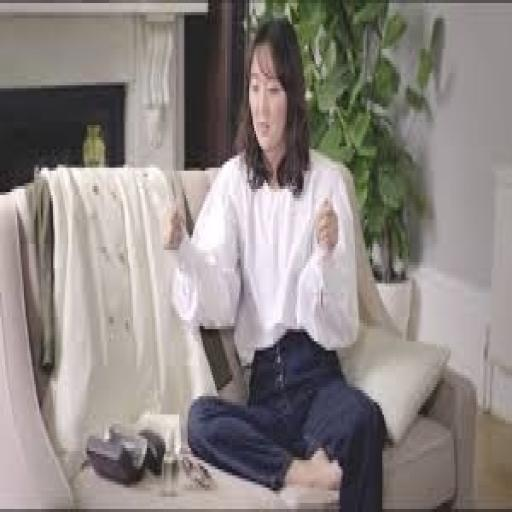sitting: (160, 15, 388, 506)
